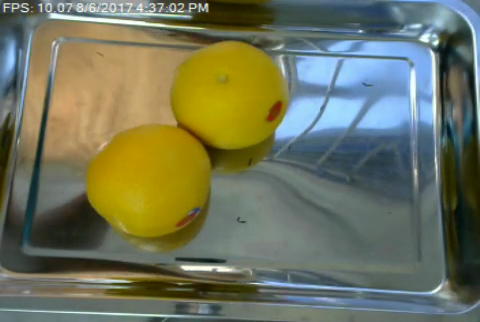Orange: (83, 123, 211, 237), (169, 40, 289, 149)
